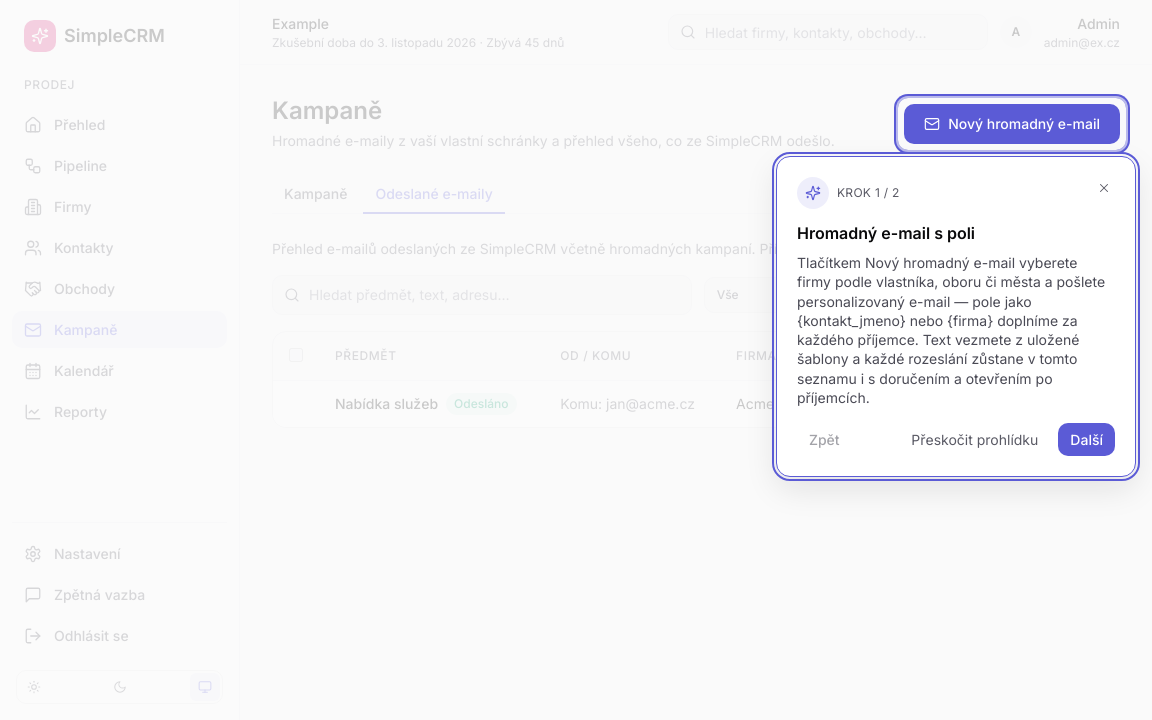
Test: Kampaně page › opens the detail modal with body and thread from a row's subject
The width and height of the screenshot is (1152, 720).
Click the button "Nabídka služeb": (387, 404) [335,393,438,414]
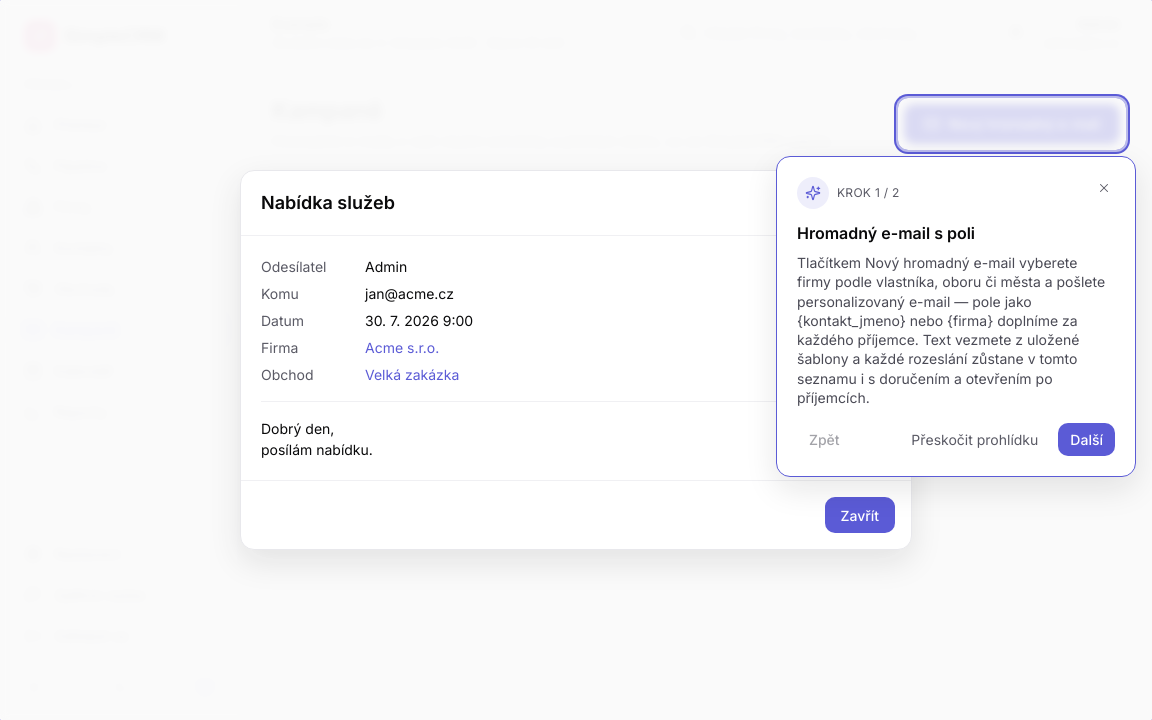
Result: the dialog with test id "mail-detail-dialog" is shown
Result: the text "Dobrý den, posílám nabídku." is shown at [261,401,891,460]
